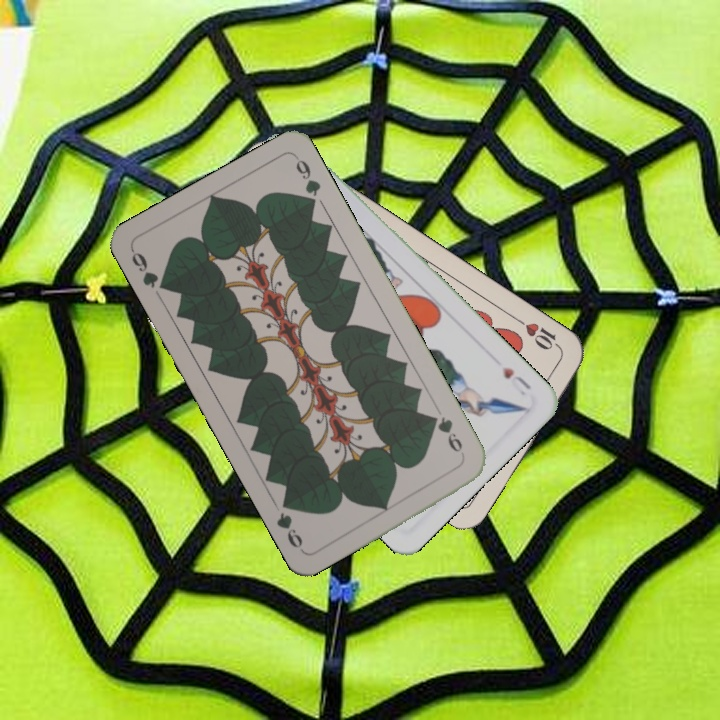G9: (127, 246, 172, 294), (426, 411, 468, 461)
H10: (512, 314, 565, 354)
HU: (498, 362, 534, 399)
